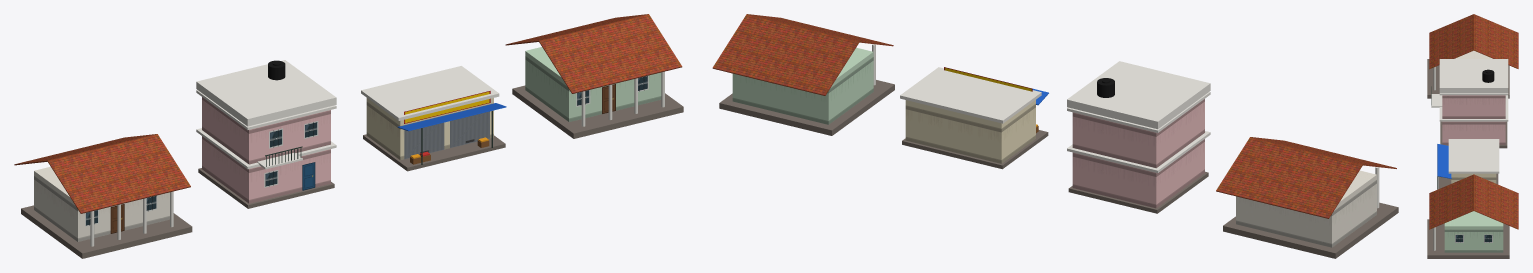
File: houses.glb
3 views of the same model, side by side, from view 1: azimuth 30°, elevation 25°; view 2: azimuth 150°, elevation 25°; view 3: azimuth 270°, elevation 25° (orthographic). The views are drawn at different scales.
Parts seen in each view (by area): view 1: h3roof, h0roof, h1parapet, h1f1, h2slab, h1g, h3walls, h0walls, h0plinth, h3plinth, h2walls, h2plinth (+8 smaller); view 2: h0roof, h3roof, h1parapet, h2walls, h3walls, h0walls, h1f1, h1g, h2slab, h3plinth, h0plinth, h2plinth (+3 smaller); view 3: h3roof, h0roof, h1parapet, h3walls, h2slab, h1f1, h1g, h3plinth, h0plinth, h2awning, h1slab0, h2walls (+10 smaller).
Boxes of the visible parts, x1,y1,x2,y2 form: h3roof: [505, 14, 682, 93]; h0roof: [14, 134, 190, 213]; h1parapet: [196, 60, 336, 126]; h1f1: [202, 97, 330, 164]; h2slab: [361, 66, 499, 120]; h1g: [202, 136, 330, 203]; h3walls: [525, 47, 661, 121]; h0walls: [34, 166, 169, 241]; h0plinth: [21, 205, 192, 258]; h3plinth: [512, 85, 683, 138]; h2walls: [366, 98, 493, 160]; h2plinth: [363, 134, 505, 171]; h0roof: [1216, 137, 1396, 218]; h3roof: [712, 14, 893, 95]; h1parapet: [1067, 61, 1210, 129]; h2walls: [905, 100, 1035, 163]; h3walls: [732, 47, 873, 124]; h0walls: [1236, 170, 1376, 247]; h1f1: [1072, 99, 1204, 168]; h1g: [1072, 139, 1204, 208]; h2slab: [900, 67, 1041, 123]; h3plinth: [719, 80, 894, 135]; h0plinth: [1223, 202, 1398, 258]; h2plinth: [902, 130, 1048, 169]; h3roof: [1429, 174, 1518, 229]; h0roof: [1429, 14, 1518, 69]; h1parapet: [1439, 59, 1508, 92]; h3walls: [1444, 211, 1503, 252]; h2slab: [1448, 139, 1499, 173]; h1f1: [1442, 95, 1505, 118]; h1g: [1442, 121, 1505, 144]; h3plinth: [1427, 219, 1509, 258]; h0plinth: [1427, 59, 1509, 98]; h2awning: [1437, 144, 1451, 178]; h1slab0: [1439, 95, 1508, 121]; h2walls: [1451, 173, 1496, 183].
Bounding box in the file's own units: 51.4 × 8.5 × 10.1.
Materials: 18 (10 with a texture image).
